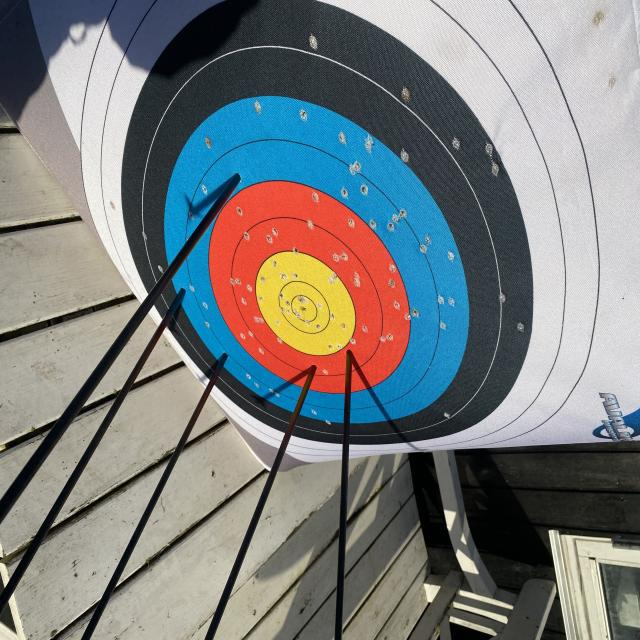Arrow_Blue: (223, 153, 249, 205), (214, 344, 238, 375), (175, 280, 195, 312)
Arrow_Red: (304, 358, 324, 383), (342, 343, 361, 367)
